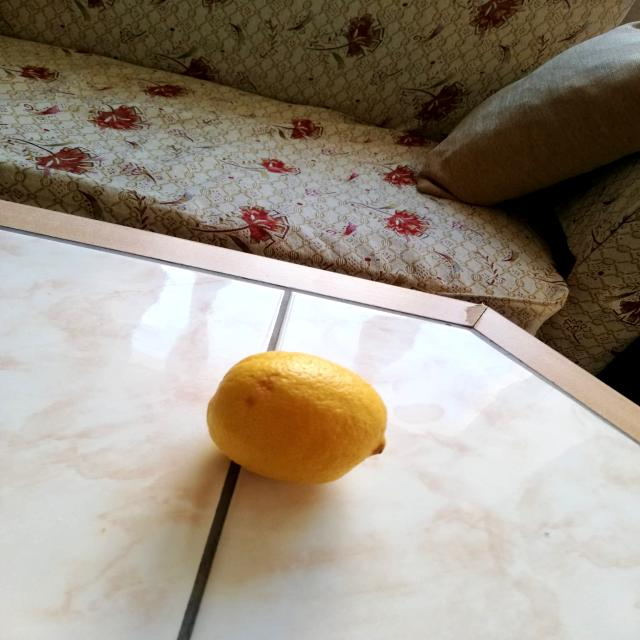lemon: (196, 340, 404, 490)
